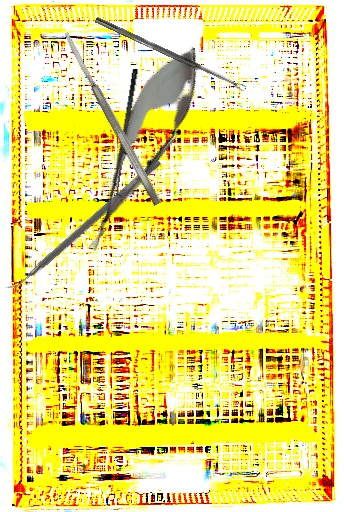Micro Scissor: (66, 33, 217, 263)
Spatula Surgical: (3, 152, 162, 298), (61, 30, 163, 207), (109, 68, 150, 199)
Surgical Spoon: (94, 16, 246, 93)
